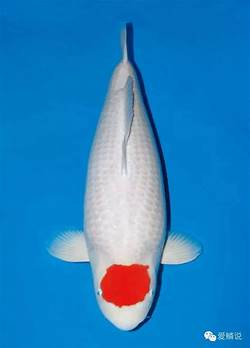sun: (46, 20, 201, 331)
